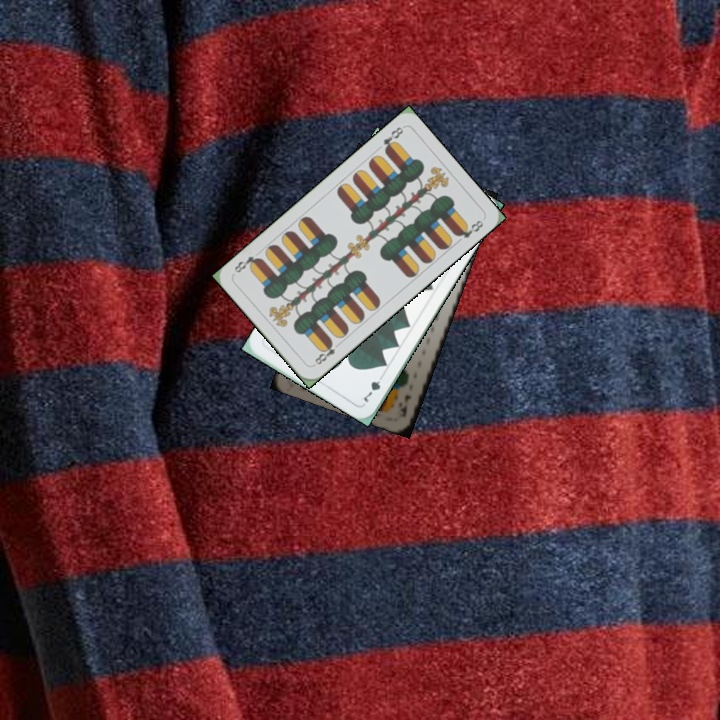E8: (309, 337, 343, 368), (379, 123, 406, 156)
EK: (393, 391, 414, 419)
G7: (359, 369, 386, 405)
